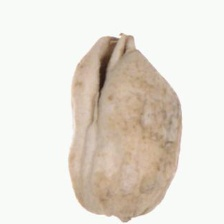L1: (93, 31, 139, 91), (79, 204, 157, 223)
L2: (66, 36, 183, 222)
